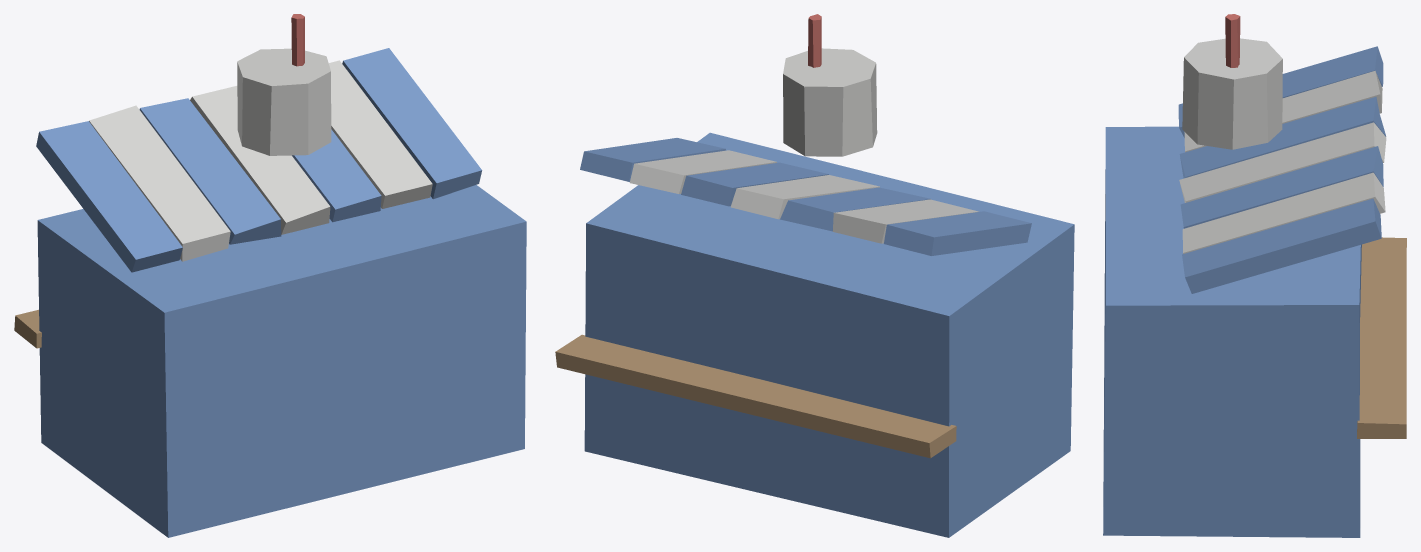
Rendered from drinksstall.fbx.
3 views of the same model, side by side, from view 1: azimuth 30°, elevation 25°; view 2: azimuth 150°, elevation 25°; view 3: azimuth 270°, elevation 25° (orthographic). The views are drawn at different scales.
Visible parts, largest first — view 1: DrinksStall; view 2: DrinksStall; view 3: DrinksStall.
Boxes of the visible parts, x1=… form: DrinksStall: x1=14, y1=14, x2=526, y2=537; DrinksStall: x1=555, y1=14, x2=1074, y2=537; DrinksStall: x1=1103, y1=14, x2=1406, y2=537.
Bounding box in the file's own units: 3.13 × 3.43 × 2.14.
